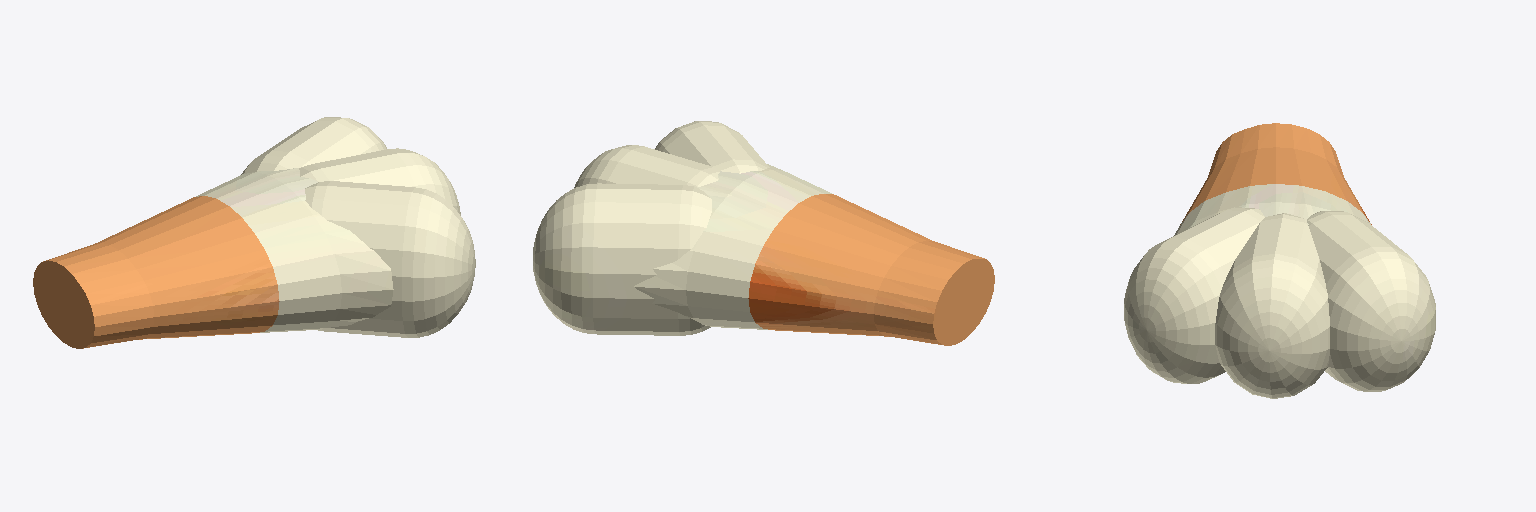
The picture shows the model from 3 angles: view 1: azimuth 30°, elevation 25°; view 2: azimuth 150°, elevation 25°; view 3: azimuth 270°, elevation 25°; orthographic projection.
Parts seen in each view (by area): view 1: Cone004; view 2: Cone004; view 3: Cone004.
Boxes of the visible parts, x1=… form: Cone004: x1=33, y1=117, x2=475, y2=348; Cone004: x1=533, y1=121, x2=994, y2=345; Cone004: x1=1124, y1=123, x2=1435, y2=398.
Size of the model in its own units: 21.12 by 7.32 by 14.7.
Materials: 1 (1 with a texture image).